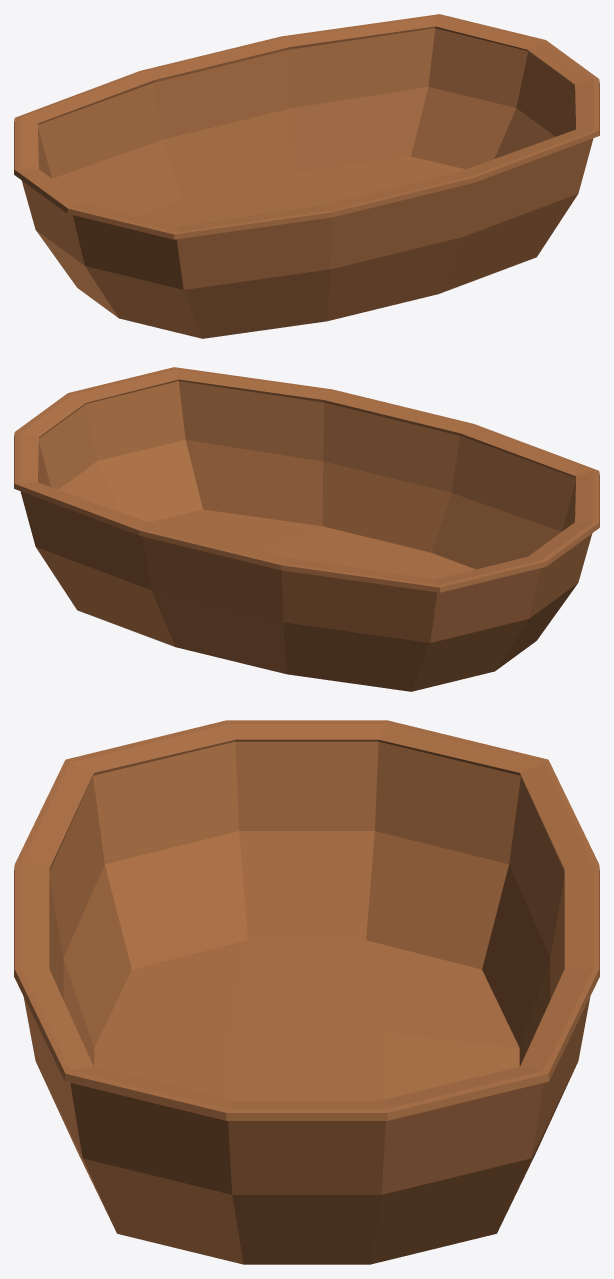
The model's file is Panera_Sola.fbx.
The picture shows the model from 3 angles, top to bottom: view 1: azimuth 30°, elevation 25°; view 2: azimuth 150°, elevation 25°; view 3: azimuth 270°, elevation 25°; orthographic projection. The views are drawn at different scales.
Parts seen in each view (by area): view 1: Panera; view 2: Panera; view 3: Panera.
Boxes of the visible parts, x1,y1,x2,y2 form: Panera: [14, 14, 599, 338]; Panera: [14, 367, 599, 691]; Panera: [14, 720, 599, 1264].
Bounding box in the file's own units: 31.87 × 7.31 × 20.06.
